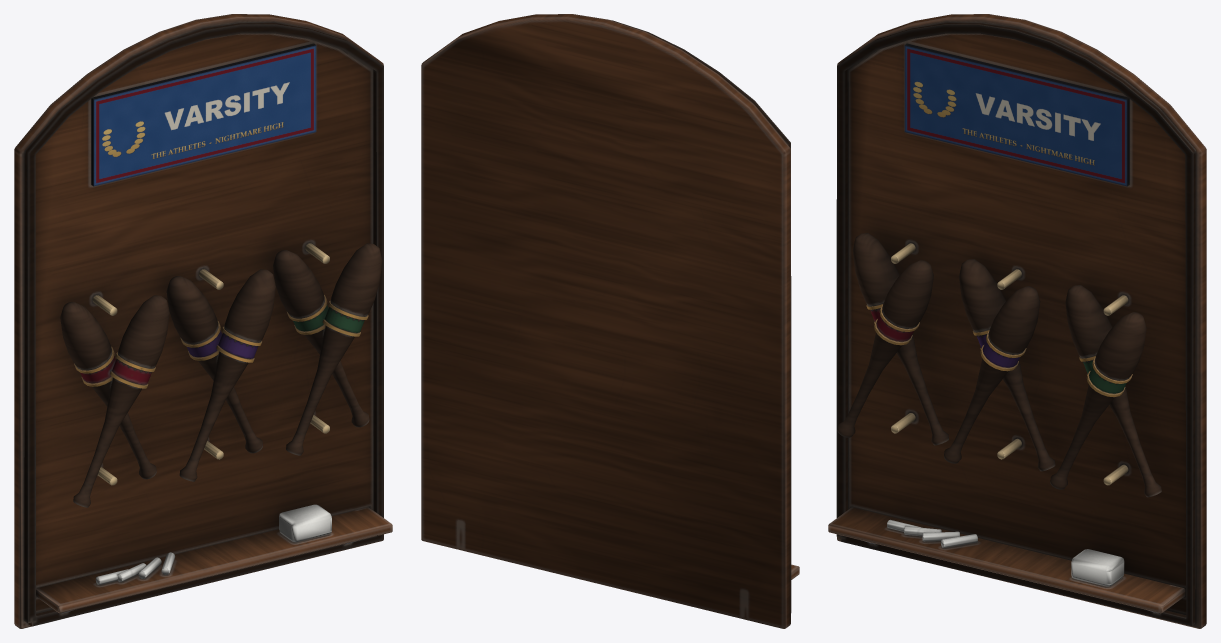
Rendered from IndianClubRack.fbx.
The picture shows the model from 3 angles, left to right: view 1: azimuth 30°, elevation 25°; view 2: azimuth 150°, elevation 25°; view 3: azimuth 330°, elevation 25°; orthographic projection.
Parts seen in each view (by area): view 1: IndianClubRack; view 2: IndianClubRack; view 3: IndianClubRack.
Boxes of the visible parts, bbox=[...] form: IndianClubRack: bbox=[14, 14, 392, 628]; IndianClubRack: bbox=[421, 14, 799, 628]; IndianClubRack: bbox=[828, 14, 1206, 628].
Size of the model in its own units: 360 by 530 by 74.1.
